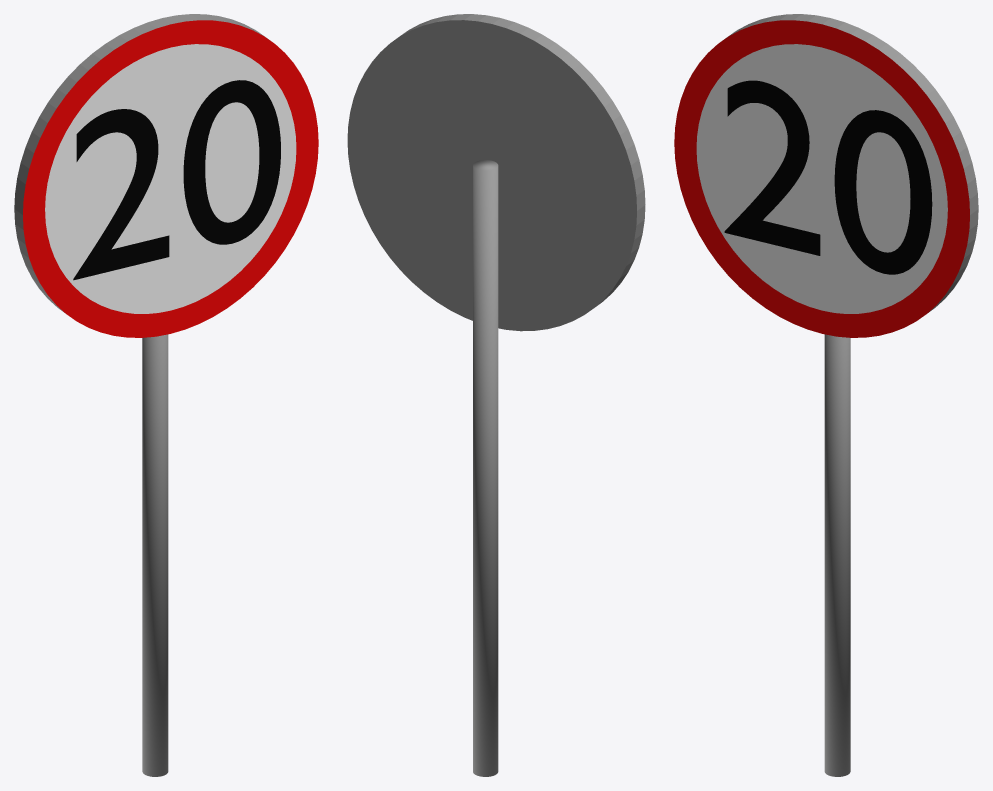
File: speed_limit_sign_20.dae
The picture shows the model from 3 angles, left to right: view 1: azimuth 30°, elevation 25°; view 2: azimuth 150°, elevation 25°; view 3: azimuth 330°, elevation 25°; orthographic projection. The views are drawn at different scales.
Visible parts, largest first — view 1: Cylinder.001, Cylinder; view 2: Cylinder.001, Cylinder; view 3: Cylinder.001, Cylinder.
Part boxes in pixels (x1,y1,x2,y2): Cylinder.001: (14,14,318,337); Cylinder: (142,334,168,776); Cylinder.001: (347,14,645,331); Cylinder: (473,160,498,776); Cylinder.001: (674,14,978,337); Cylinder: (824,334,850,776).
Size of the model in its own units: 1 by 0.129 by 2.45.
